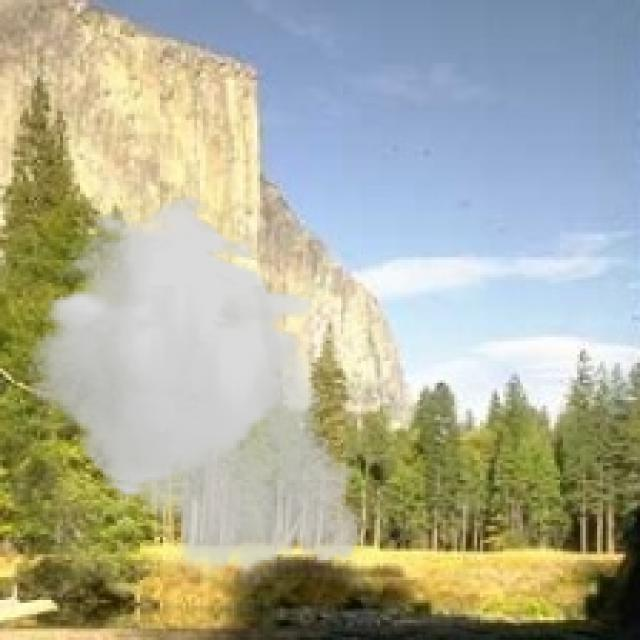smoke: (29, 194, 377, 589)
